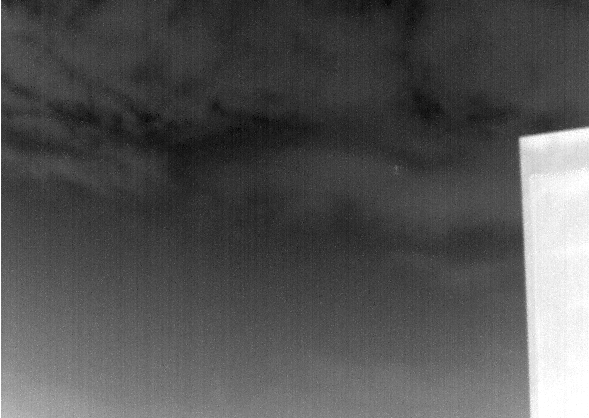dim target: (393, 164, 400, 171)
